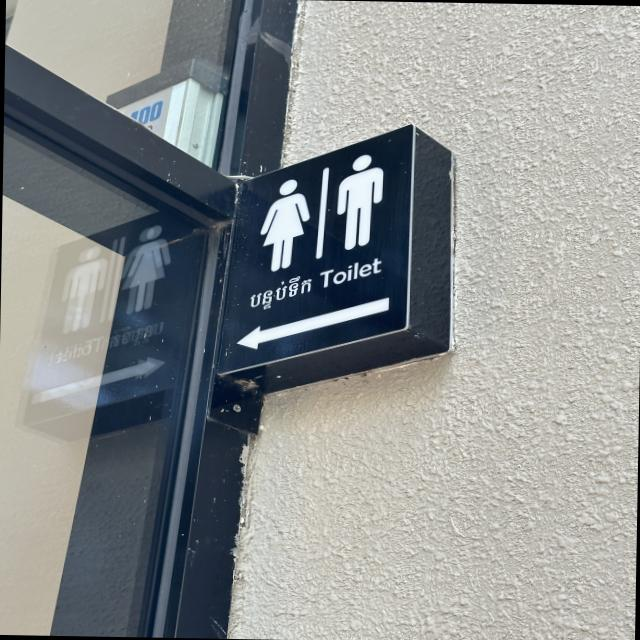Yolov11kh: (242, 268, 317, 321)
